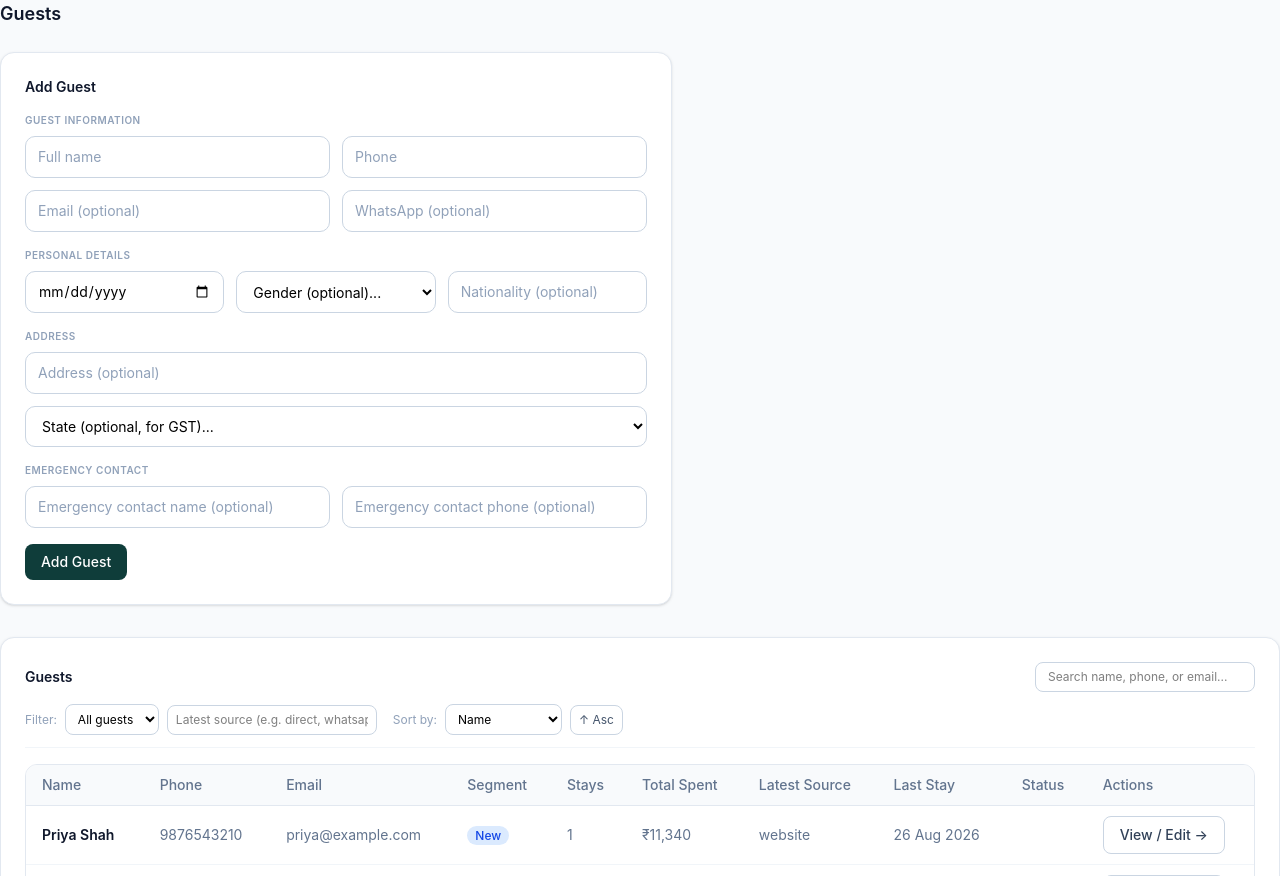
GuestsPage — UI polish › View / Edit still opens the guest detail view
Check: the text "Priya Shah" is shown, box [26,806,144,864]
Click the button "View / Edit →" in the row of "Priya Shah".
click(1164, 835)  # box [1103,816,1225,854]
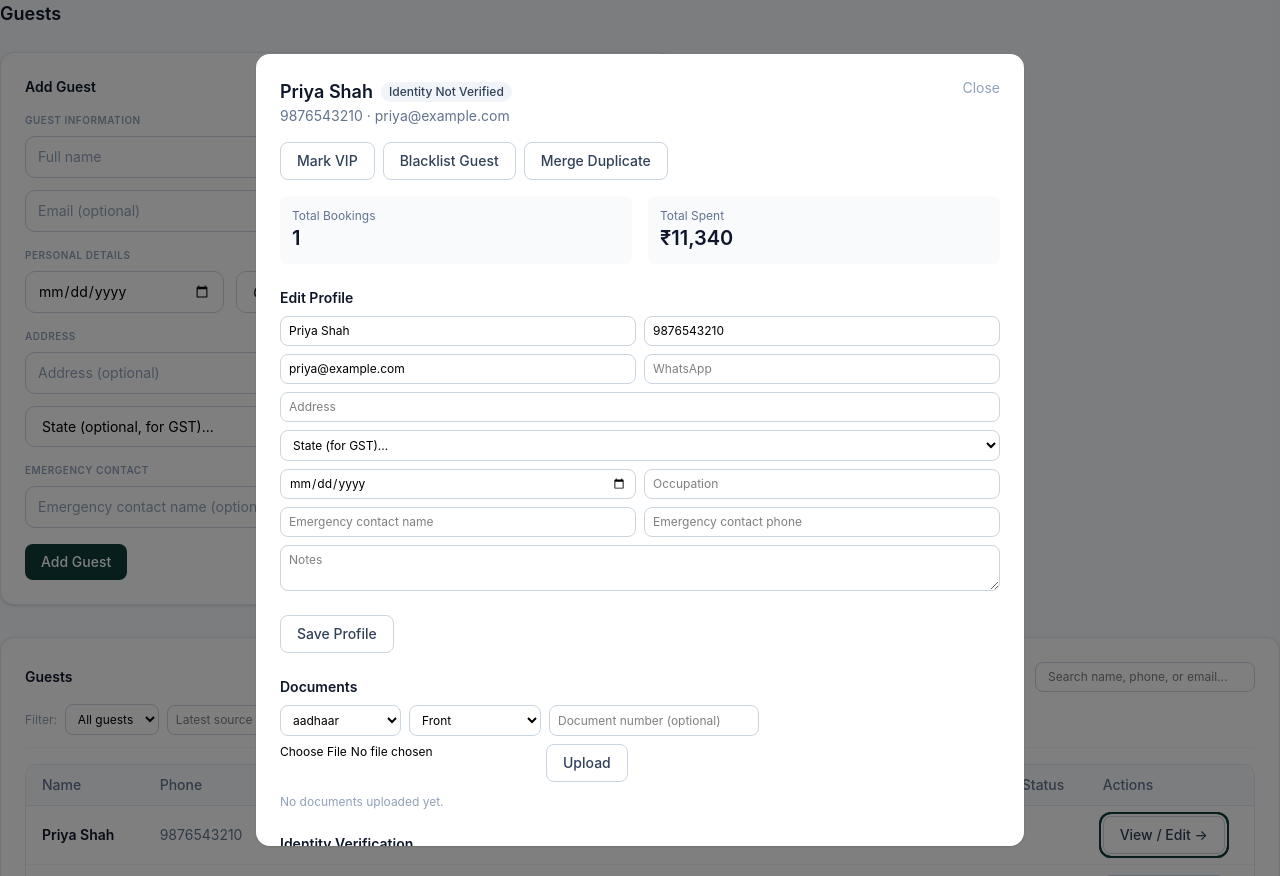
Check: the button "Mark VIP" is shown, box [280,142,375,180]
